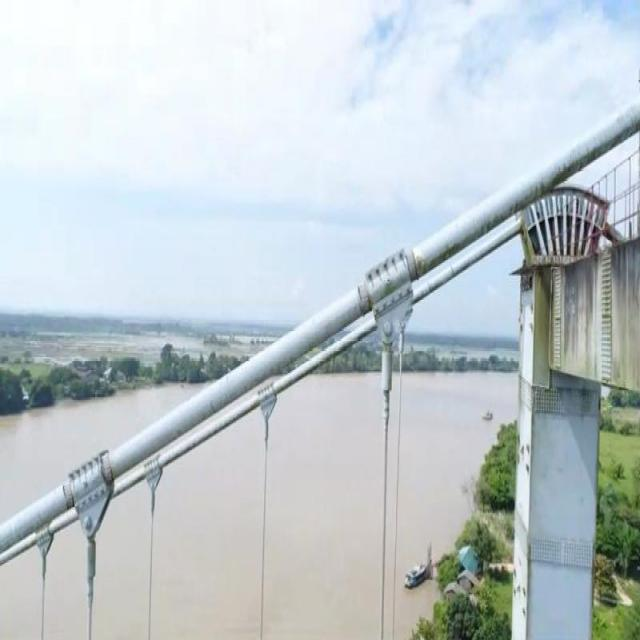Slippage: (358, 282, 372, 314), (406, 250, 419, 283), (102, 453, 114, 484), (63, 482, 75, 508)
